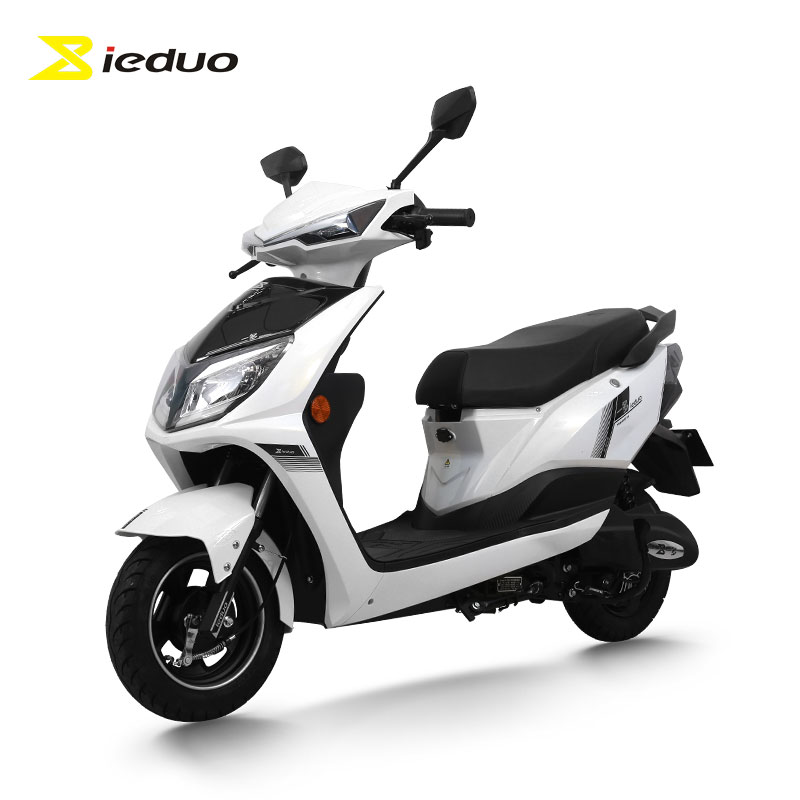电动车: (79, 85, 726, 737)
